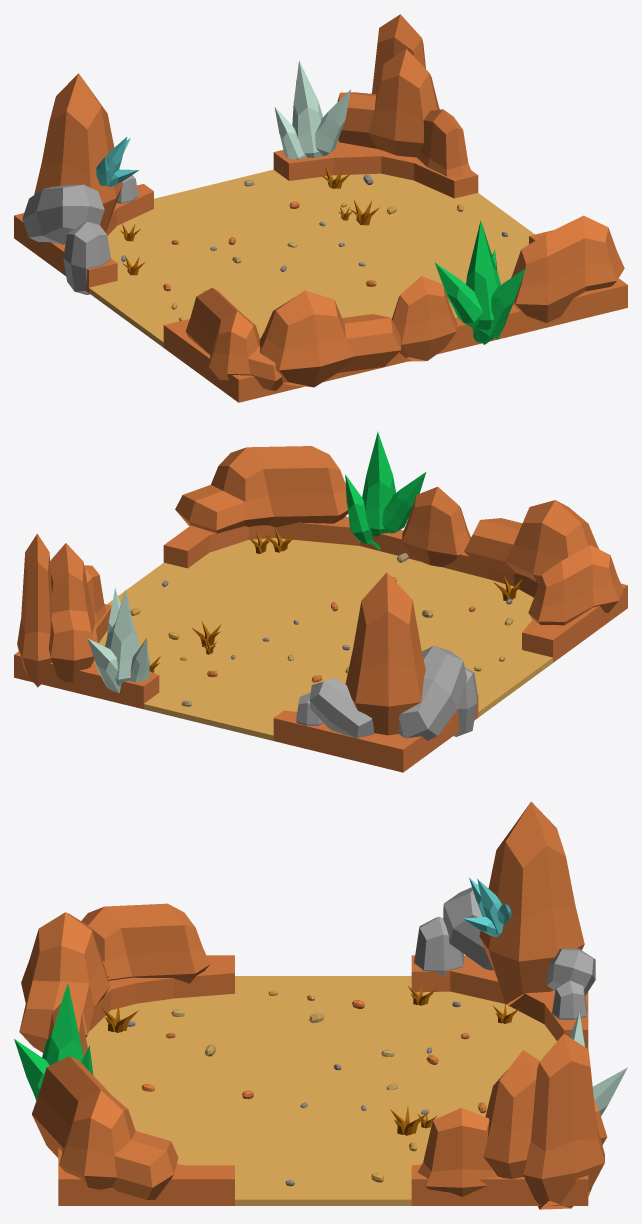
Rendered from cave level set - 3 Way (3).fbx.
3 renders of one model, top to bottom at view 1: azimuth 30°, elevation 25°; view 2: azimuth 150°, elevation 25°; view 3: azimuth 270°, elevation 25°, orthographic. The views are drawn at different scales.
Parts seen in each view (by area): view 1: land_platform_001, Cube_002, Cube_004, Cube, Cube_009, Cube_010, Cube_003, Cube_001, Cube_005, Cube_011, Cube_006, Cube_008; view 2: land_platform_001, Cube_004, Cube, Cube_002, Cube_003, Cube_009, Cube_010, Cube_001, Cube_008, Cube_005, Cube_011, Cube_007 (+1 smaller); view 3: land_platform_001, Cube, Cube_004, Cube_008, Cube_003, Cube_002, Cube_009, Cube_006, Cube_010, Cube_001, Cube_007, Cube_011.
Boxes of the visible parts, box(x1,y1,x2,y2) form: land_platform_001: box(14, 140, 627, 402); Cube_002: box(259, 290, 401, 387); Cube_004: box(511, 215, 624, 322); Cube: box(34, 73, 138, 232); Cube_009: box(337, 49, 439, 157); Cube_010: box(22, 184, 110, 294); Cube_003: box(185, 287, 282, 390); Cube_001: box(435, 220, 525, 344); Cube_005: box(392, 276, 457, 361); Cube_011: box(274, 60, 350, 159); Cube_006: box(416, 109, 470, 176); Cube_008: box(371, 14, 425, 94); land_platform_001: box(14, 516, 627, 772); Cube_004: box(175, 446, 348, 533); Cube: box(345, 572, 425, 735); Cube_002: box(464, 500, 599, 582); Cube_003: box(528, 545, 623, 625); Cube_009: box(48, 543, 94, 682); Cube_010: box(398, 646, 477, 740); Cube_001: box(345, 431, 426, 549); Cube_008: box(17, 533, 52, 687); Cube_005: box(402, 486, 470, 566); Cube_011: box(87, 588, 149, 693); Cube_007: box(296, 678, 373, 738); land_platform_001: box(58, 955, 588, 1205); Cube: box(464, 801, 584, 1005); Cube_004: box(32, 1056, 178, 1199); Cube_008: box(523, 1034, 604, 1209); Cube_003: box(81, 903, 210, 983); Cube_002: box(19, 912, 109, 1052); Cube_009: box(483, 1050, 607, 1178); Cube_006: box(417, 1108, 497, 1196); Cube_010: box(414, 884, 493, 977); Cube_001: box(14, 983, 93, 1100); Cube_007: box(547, 948, 595, 1019); Cube_011: box(570, 1012, 627, 1115).
Size of the model in its own units: 16.61 by 6.94 by 17.59.
